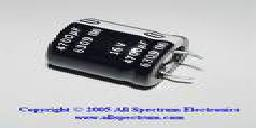Electrolytic-capacitor: (44, 18, 204, 90)
